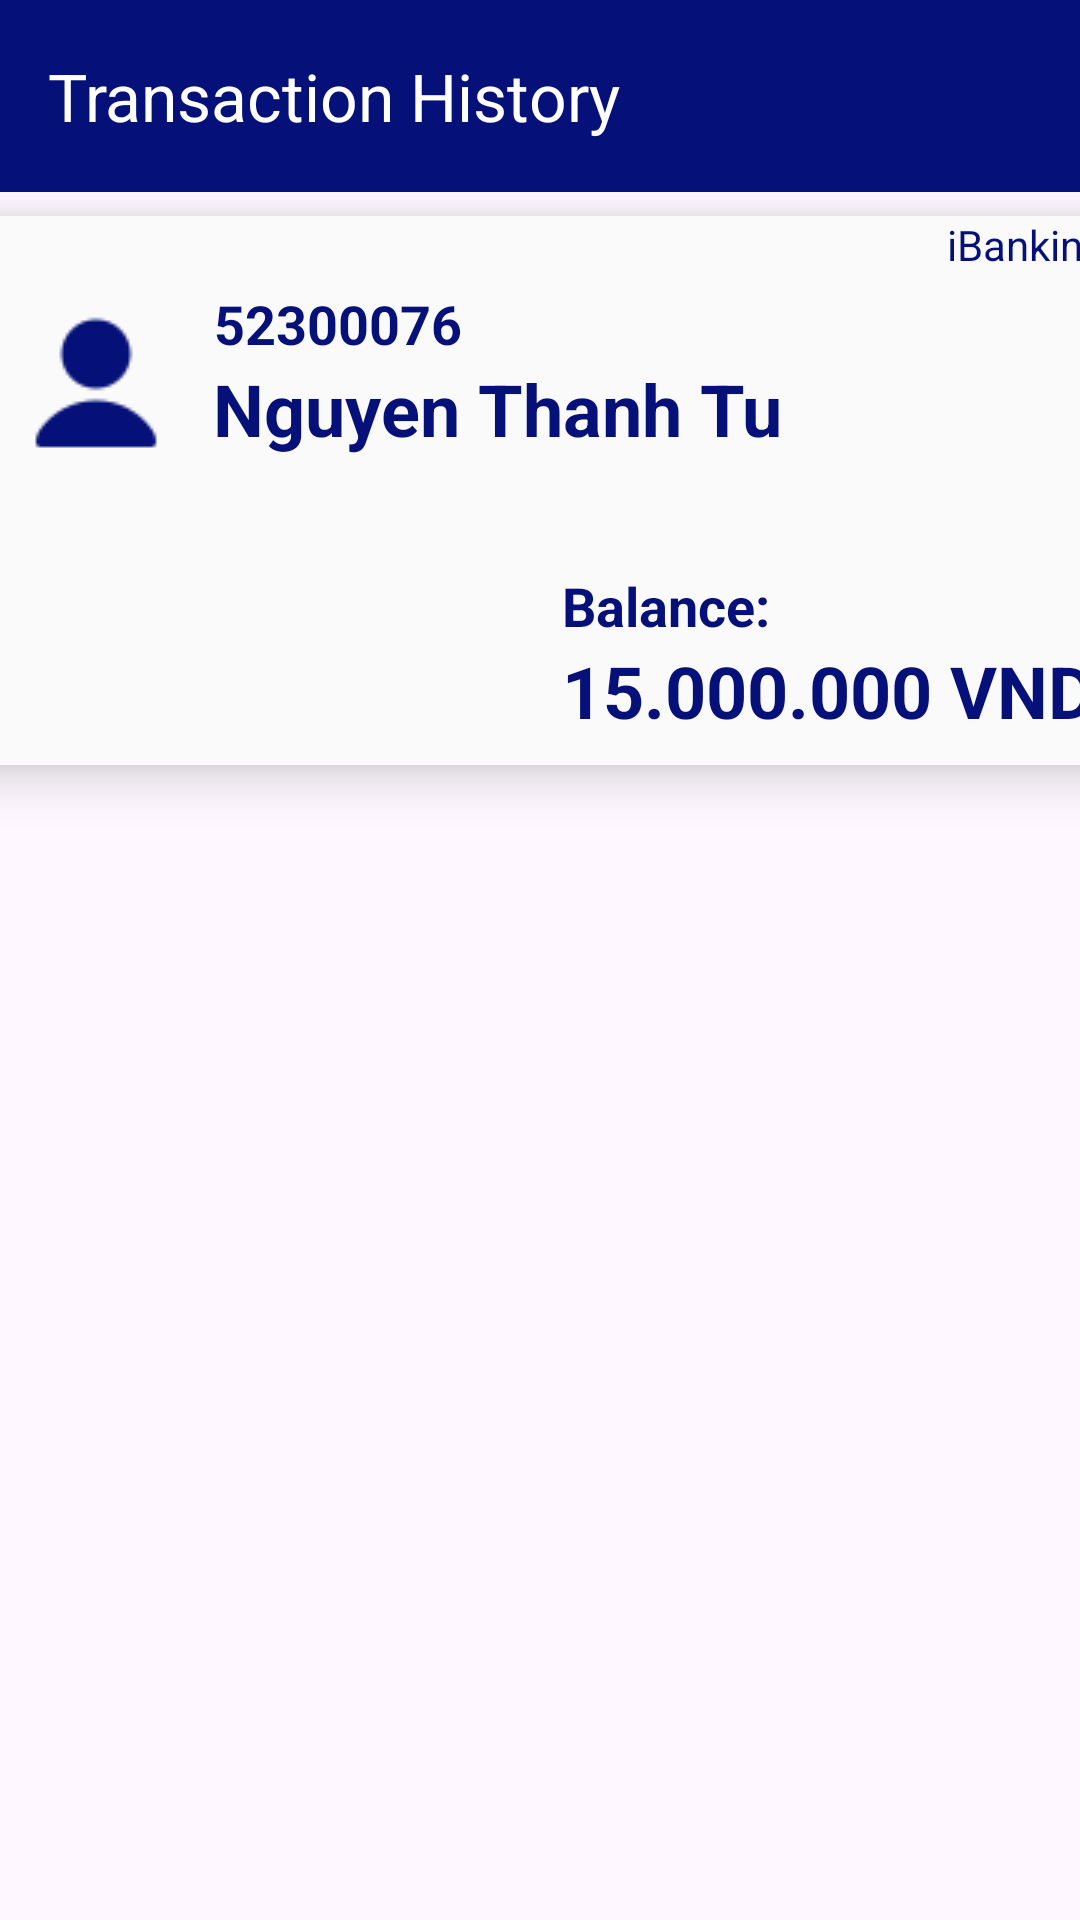

Named icons in this screenshot (1080 x 1920) and their centers, point (x, y):
person: point (96, 382)
